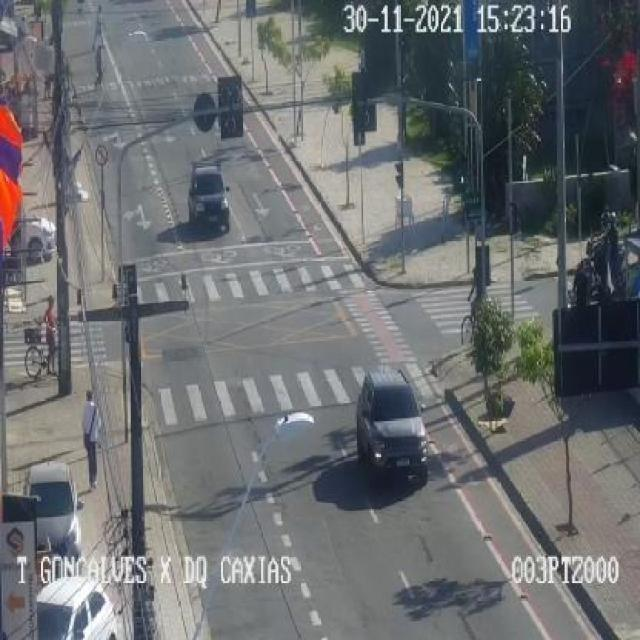Car: (361, 344, 442, 495), (180, 166, 238, 247)
Cycle: (11, 283, 72, 423), (565, 216, 623, 307), (455, 250, 500, 338)
